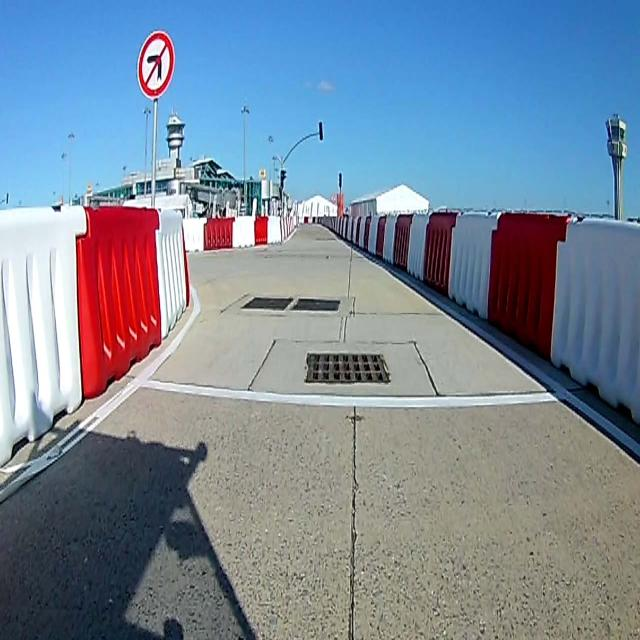soladonulmez: (134, 30, 177, 100)
